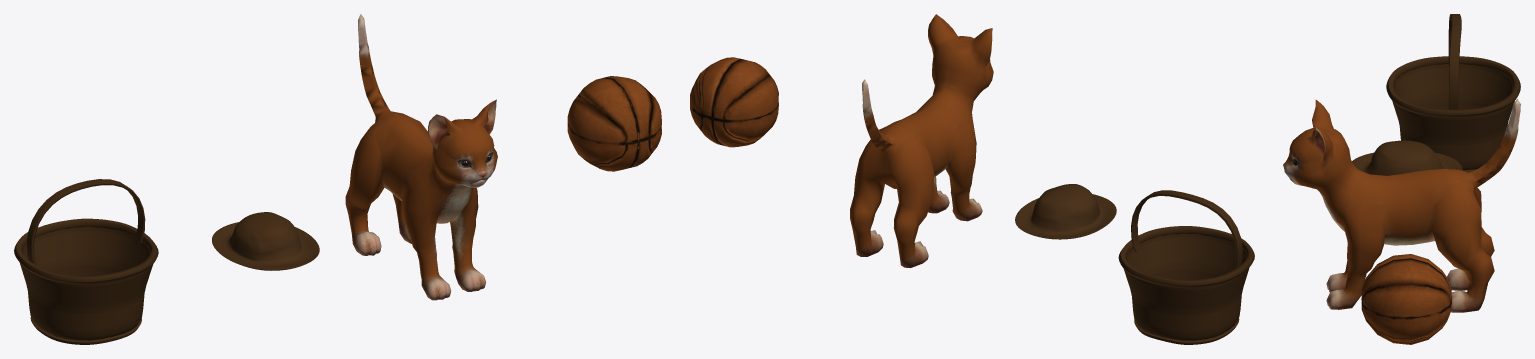
File: activity_2.fbx
3 views of the same model, side by side, from view 1: azimuth 30°, elevation 25°; view 2: azimuth 150°, elevation 25°; view 3: azimuth 270°, elevation 25° (orthographic). The views are drawn at different scales.
Parts seen in each view (by area): view 1: cat:cat:cat_model, Basket_final:Basket_low, pSphere1, hat_final:stylish_hat; view 2: cat:cat:cat_model, Basket_final:Basket_low, pSphere1, hat_final:stylish_hat; view 3: cat:cat:cat_model, Basket_final:Basket_low, pSphere1, hat_final:stylish_hat.
Part boxes in pixels (x1,y1,x2,y2): cat:cat:cat_model: [345, 14, 497, 300]; Basket_final:Basket_low: [14, 179, 158, 344]; pSphere1: [567, 76, 661, 171]; hat_final:stylish_hat: [212, 212, 319, 270]; cat:cat:cat_model: [850, 14, 993, 267]; Basket_final:Basket_low: [1118, 190, 1254, 344]; pSphere1: [690, 57, 778, 147]; hat_final:stylish_hat: [1015, 184, 1116, 239]; cat:cat:cat_model: [1283, 99, 1520, 312]; Basket_final:Basket_low: [1386, 14, 1520, 172]; pSphere1: [1361, 254, 1451, 344]; hat_final:stylish_hat: [1352, 140, 1462, 175].
Size of the model in its own units: 18.02 by 5.95 by 6.43.
4 materials, 2 textured.
